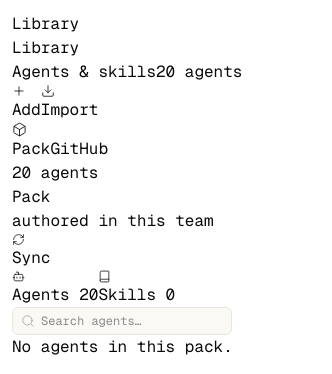
Test case: LibraryPage detail pane (server-paged) › shows a no-match message when a search returns nothing
The image size is (332, 374).
Type "zzz" into the field labelled "Search agents…" at (132, 321), box [41,312,223,330]
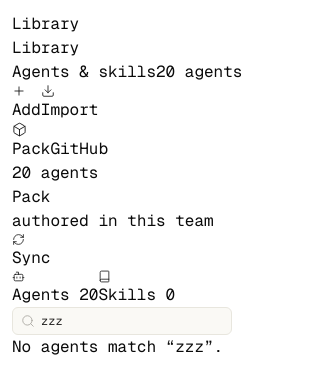
Check: the text "No agents match “zzz”." is shown, box [12,336,223,357]
